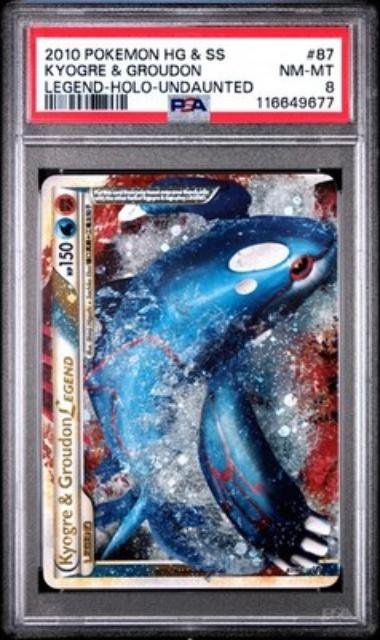Card: (38, 168, 345, 594)
Name: (54, 345, 82, 574)
